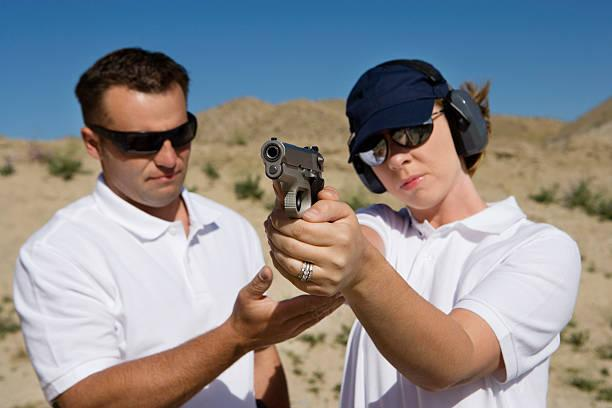weapon: (259, 134, 331, 219)
